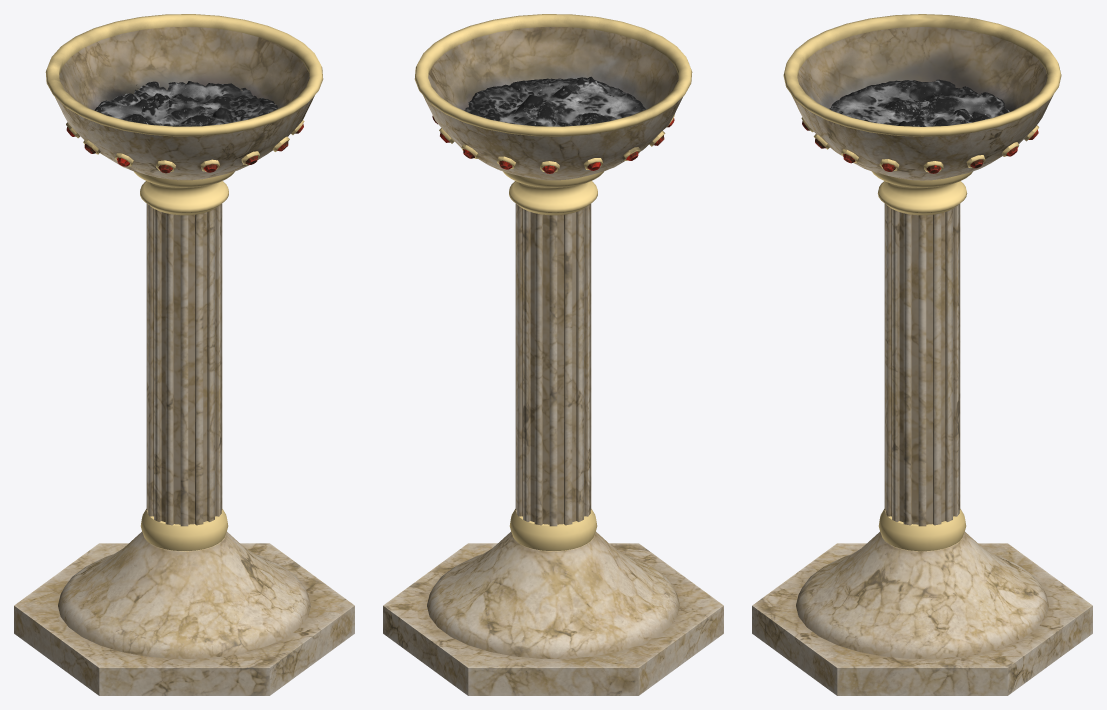
File: torch.fbx
3 renders of one model, left to right at view 1: azimuth 30°, elevation 25°; view 2: azimuth 150°, elevation 25°; view 3: azimuth 270°, elevation 25°, orthographic.
Visible parts, largest first — view 1: Cylinder; view 2: Cylinder; view 3: Cylinder.
Part boxes in pixels (left/top/right/bottom): Cylinder: left=14, top=14, right=354, bottom=695; Cylinder: left=383, top=14, right=723, bottom=695; Cylinder: left=752, top=14, right=1092, bottom=695.
Size of the model in its own units: 117 by 246 by 135.
Materials: 2 (2 with a texture image).
